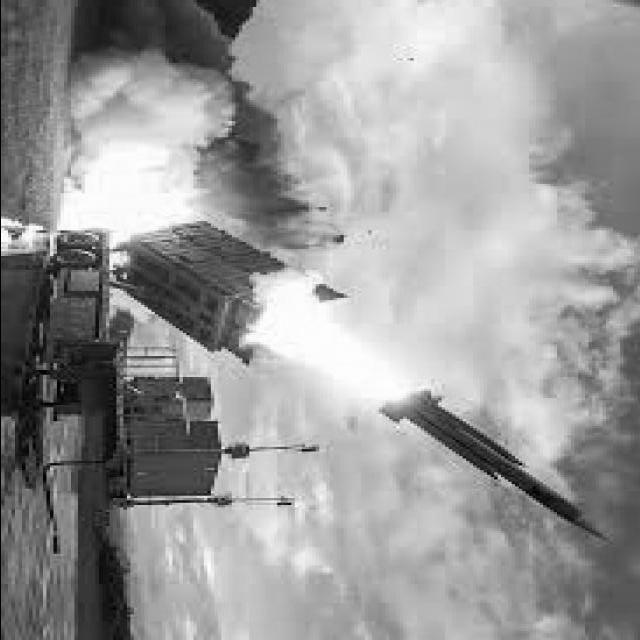Missile: (372, 387, 621, 558)
